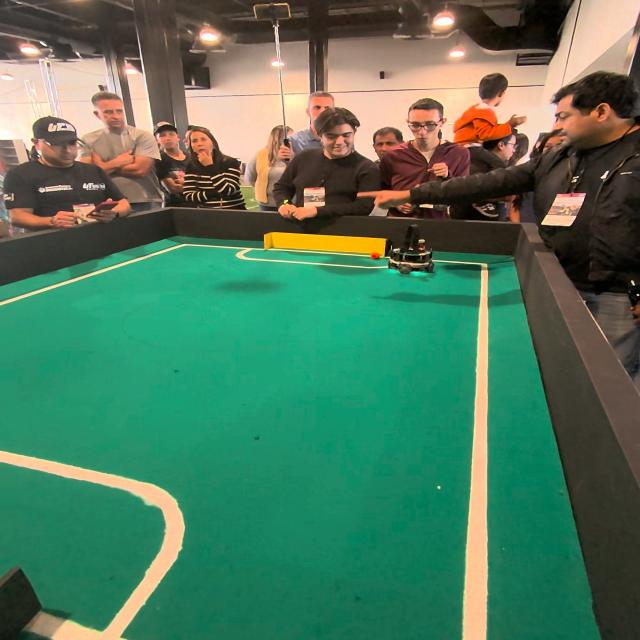Robot: (387, 221, 439, 282)
pelota: (369, 247, 380, 267)
